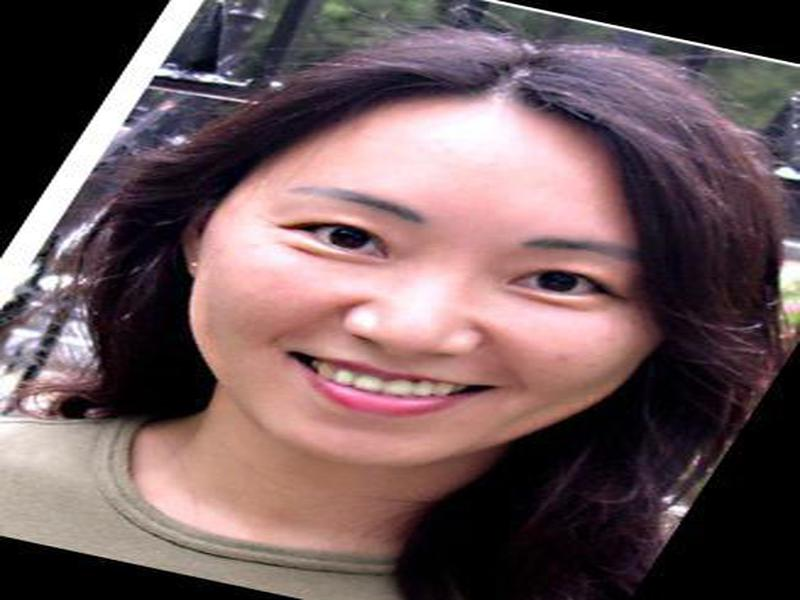without_mask: (187, 104, 655, 461)
